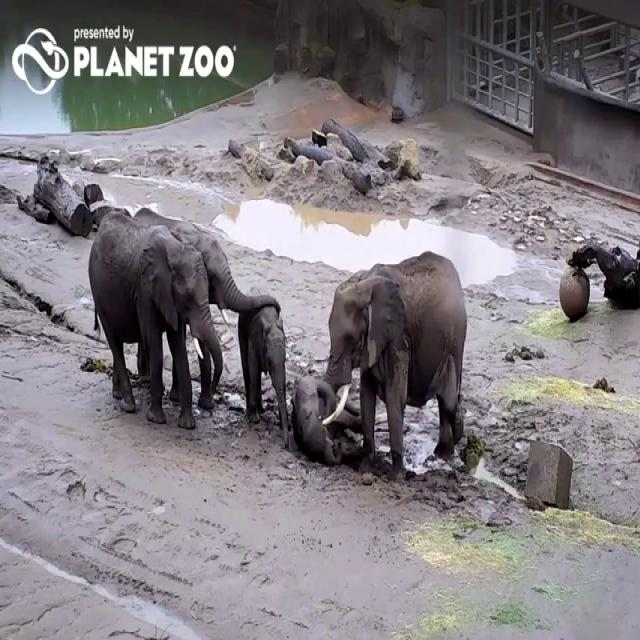Elephant: (321, 249, 467, 475), (88, 209, 223, 428), (237, 295, 289, 448)
